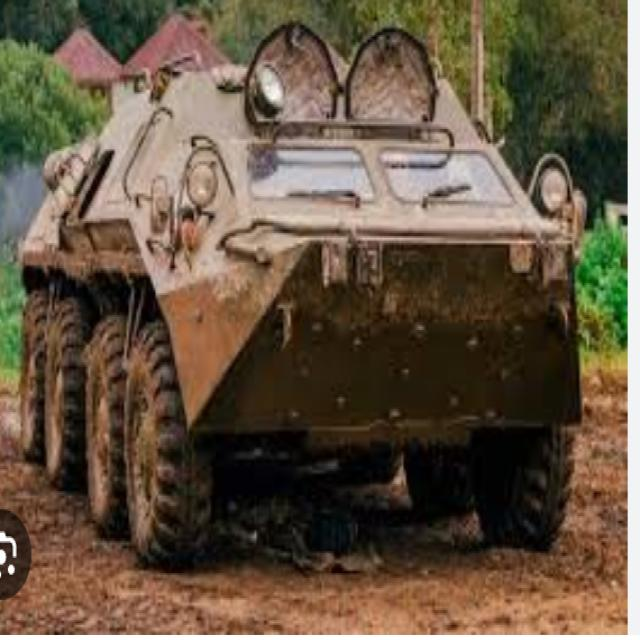MIL_APC: (11, 68, 594, 570)
